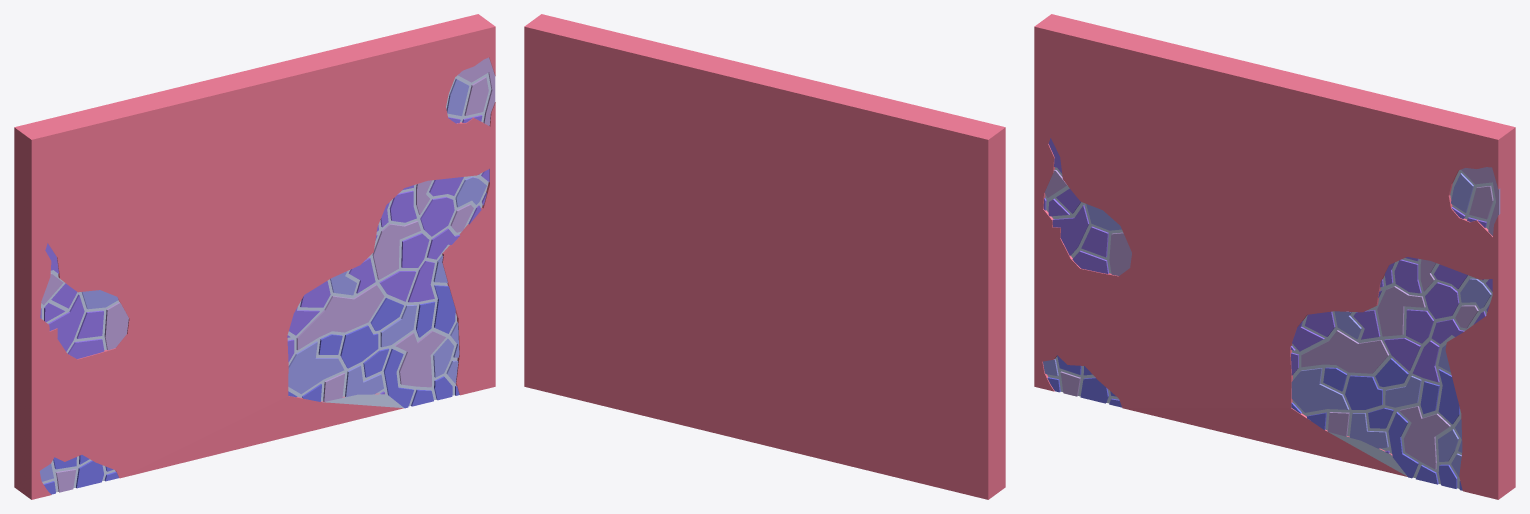
Rendered from MOR_TEP_PAREDES_00_ROJO_MITAD.fbx.
The picture shows the model from 3 angles, left to right: view 1: azimuth 30°, elevation 25°; view 2: azimuth 150°, elevation 25°; view 3: azimuth 330°, elevation 25°; orthographic projection.
Parts seen in each view (by area): view 1: MOR_TEP_PAREDES_00_ROJO_MITAD_LOD0; view 2: MOR_TEP_PAREDES_00_ROJO_MITAD_LOD0; view 3: MOR_TEP_PAREDES_00_ROJO_MITAD_LOD0.
Boxes of the visible parts, bbox=[...] form: MOR_TEP_PAREDES_00_ROJO_MITAD_LOD0: bbox=[14, 14, 495, 499]; MOR_TEP_PAREDES_00_ROJO_MITAD_LOD0: bbox=[524, 14, 1005, 499]; MOR_TEP_PAREDES_00_ROJO_MITAD_LOD0: bbox=[1034, 14, 1515, 499].
Size of what is drawn, in the model's own units: 393 by 291 by 25.36.
